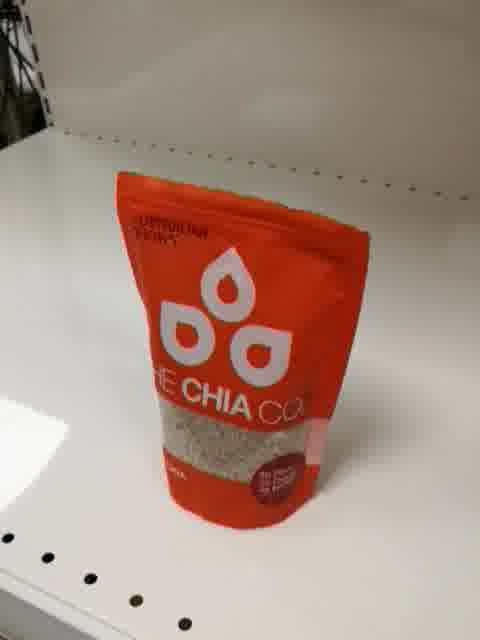whitechia: (115, 167, 373, 533)
